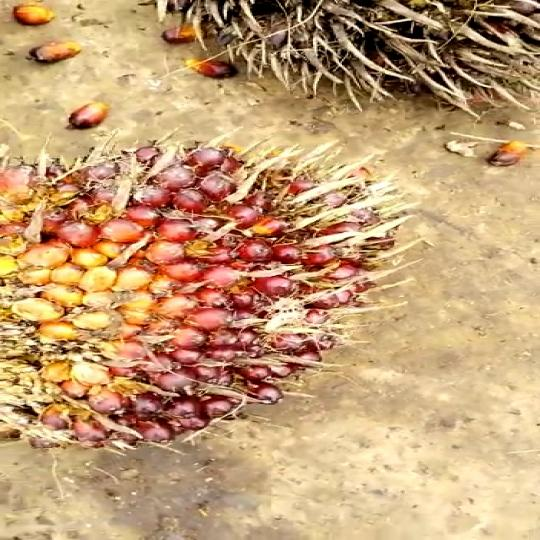masak: (0, 152, 401, 453)
